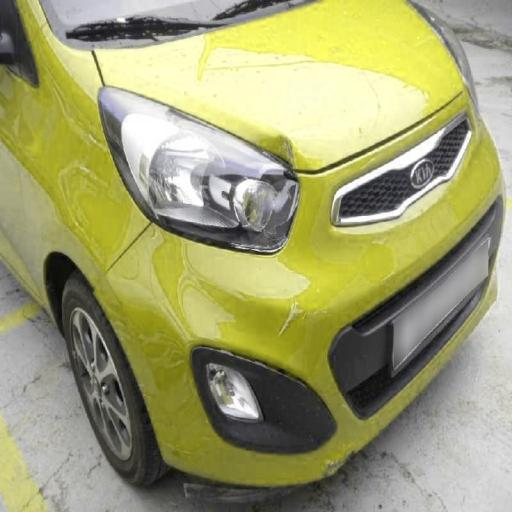broken: (95, 124, 339, 330)
